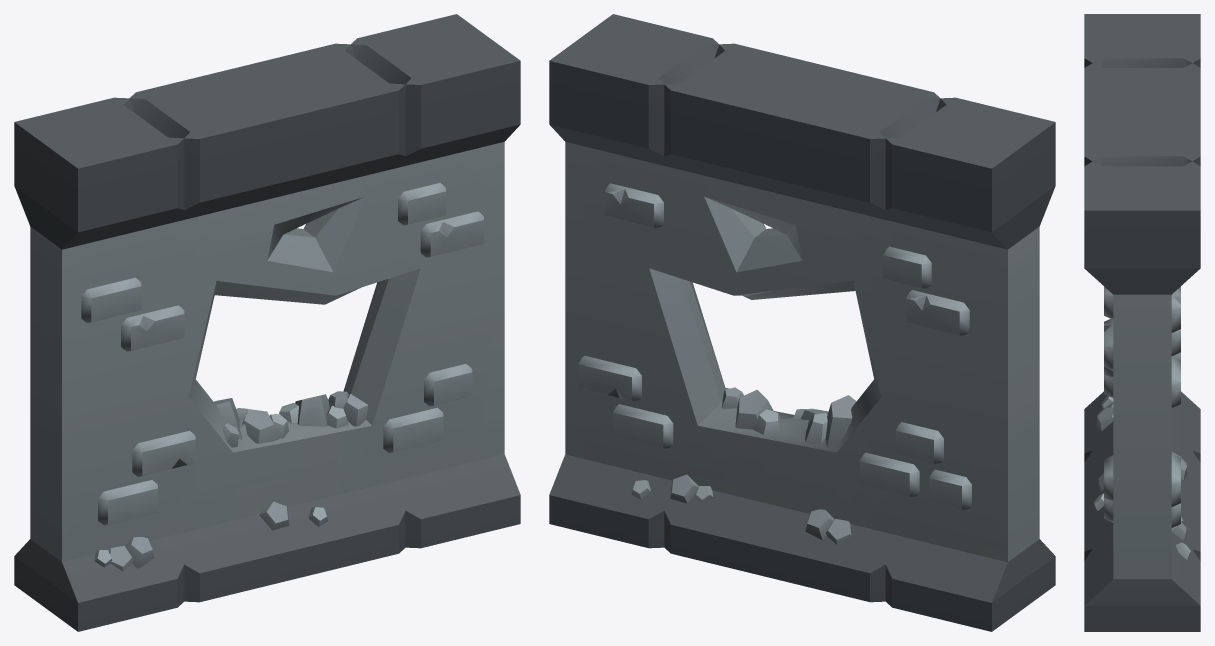
File: wall_broken.gltf.glb
3 renders of one model, left to right at view 1: azimuth 30°, elevation 25°; view 2: azimuth 150°, elevation 25°; view 3: azimuth 270°, elevation 25°, orthographic. The views are drawn at different scales.
Visible parts, largest first — view 1: wall_broken; view 2: wall_broken; view 3: wall_broken.
Boxes of the visible parts, x1,y1,x2,y2 form: wall_broken: (14,14,520,631); wall_broken: (549,14,1055,631); wall_broken: (1084,14,1200,631).
Bounding box in the file's own units: 4 × 4 × 1.
Materials: 1 (1 with a texture image).
